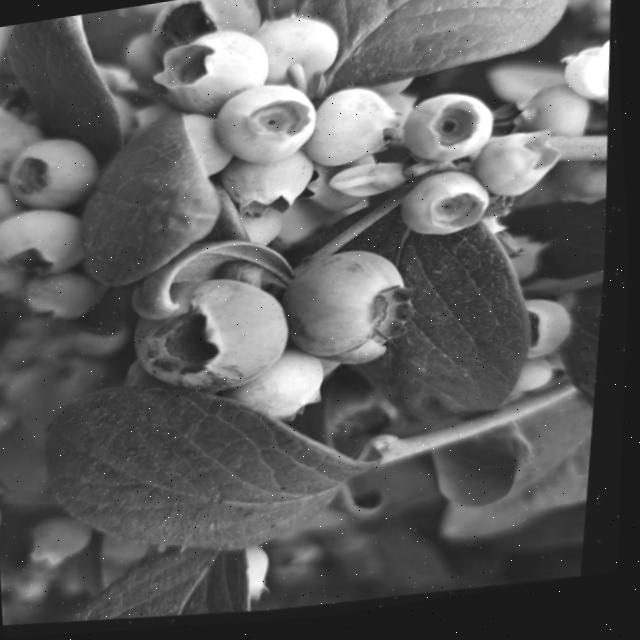RipeBlueBerry: (123, 263, 312, 419), (276, 240, 440, 381)
Semi-RipeBlueBerry: (146, 0, 273, 66)
UnripeBlueBerry: (147, 25, 274, 131), (211, 77, 332, 182), (2, 134, 115, 226), (305, 85, 412, 180), (0, 200, 105, 295), (234, 349, 342, 440), (402, 168, 506, 253), (217, 148, 326, 229), (407, 90, 505, 178), (511, 82, 600, 157), (0, 497, 22, 562)
